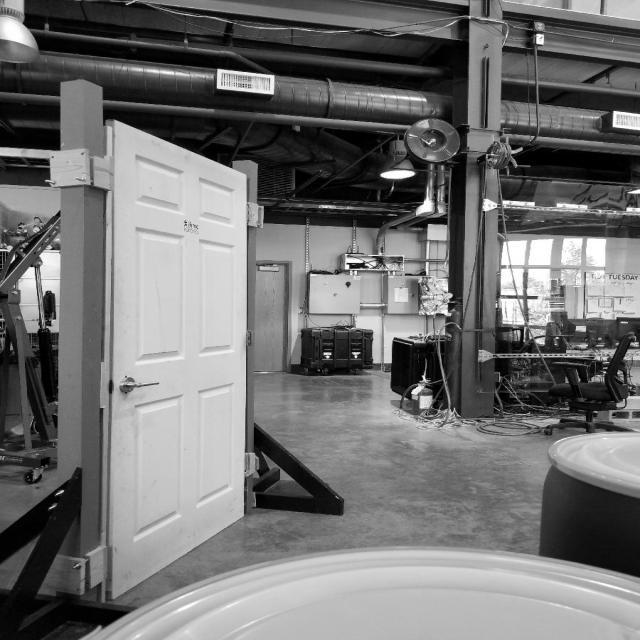door: (105, 119, 252, 604), (119, 376, 165, 392)
